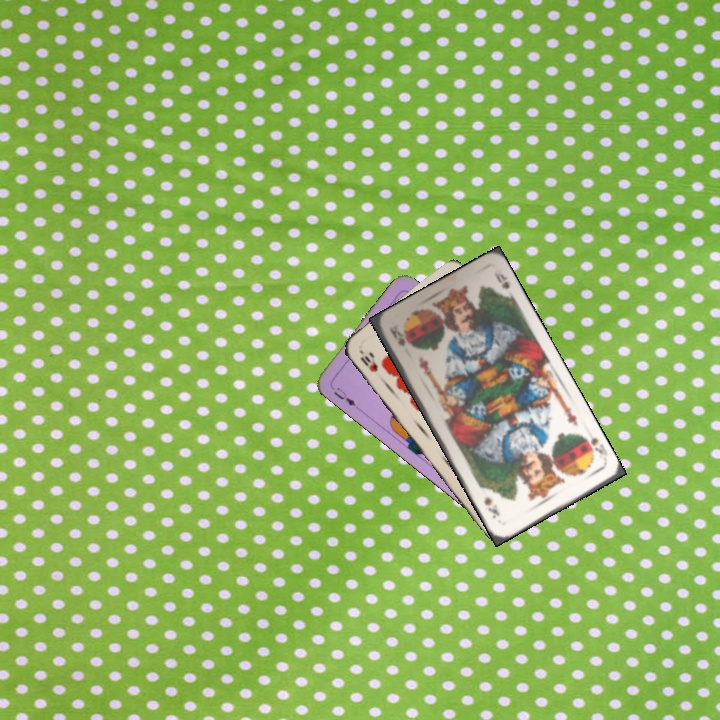EU: (329, 383, 361, 412)
H10: (356, 352, 381, 375)
SK: (579, 430, 610, 467), (386, 322, 408, 349)
